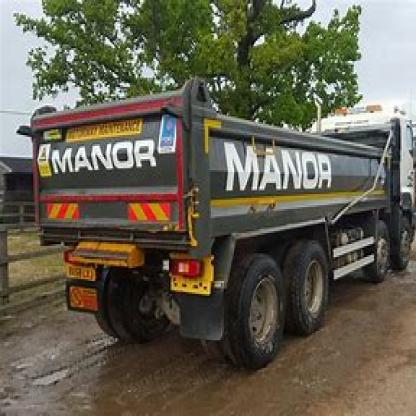dump_truck: (27, 67, 414, 366)
